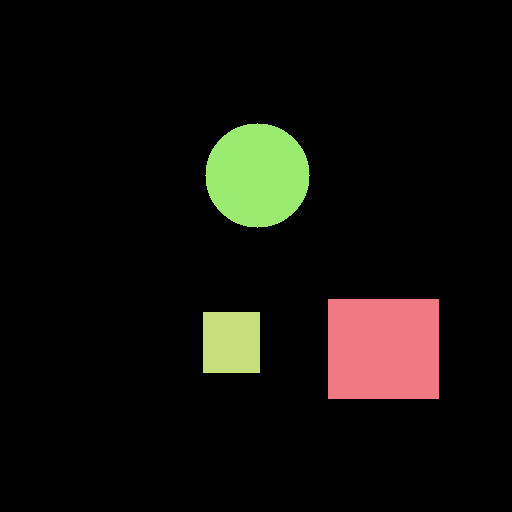circle: (205, 123, 309, 227)
rectangle: (328, 299, 438, 398)
square: (203, 312, 259, 372)
